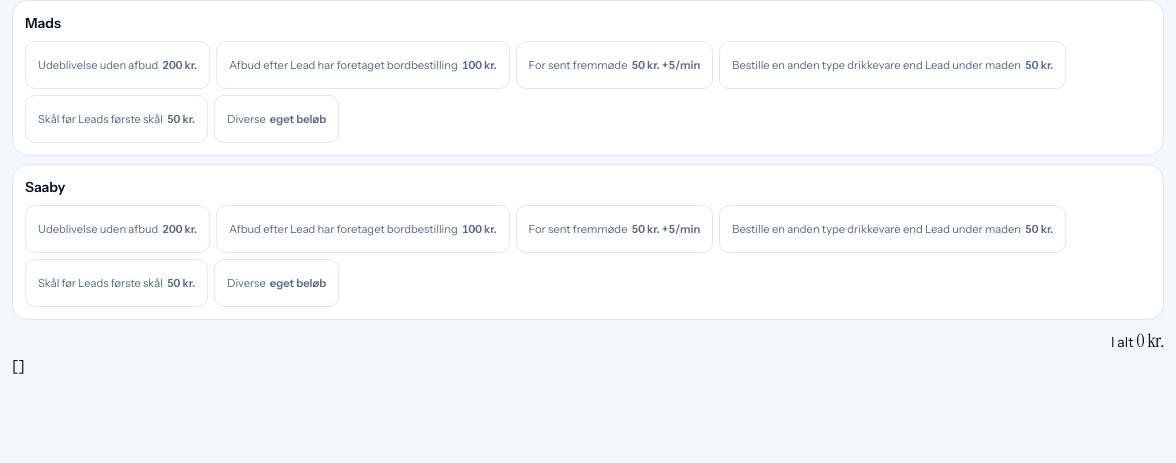
Test: a negative number is refused rather than charged as none
Click the 1st button "For sent fremmøde 50 kr. +5/min".
click(614, 65)  # box [516, 41, 713, 89]
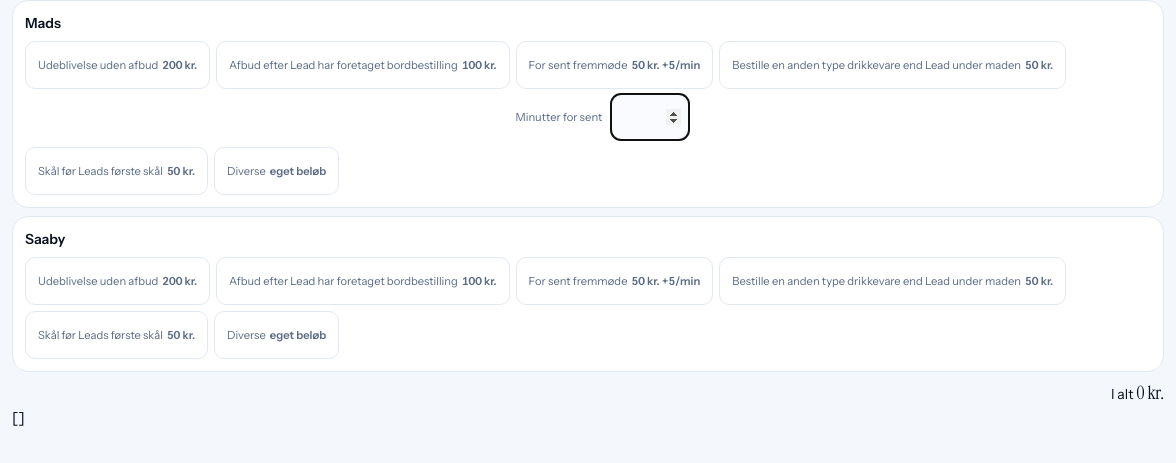
Type "-50" into the number field named "Minutter for sent — Mads".
click(650, 117); type("-50")  # box [610, 93, 690, 141]
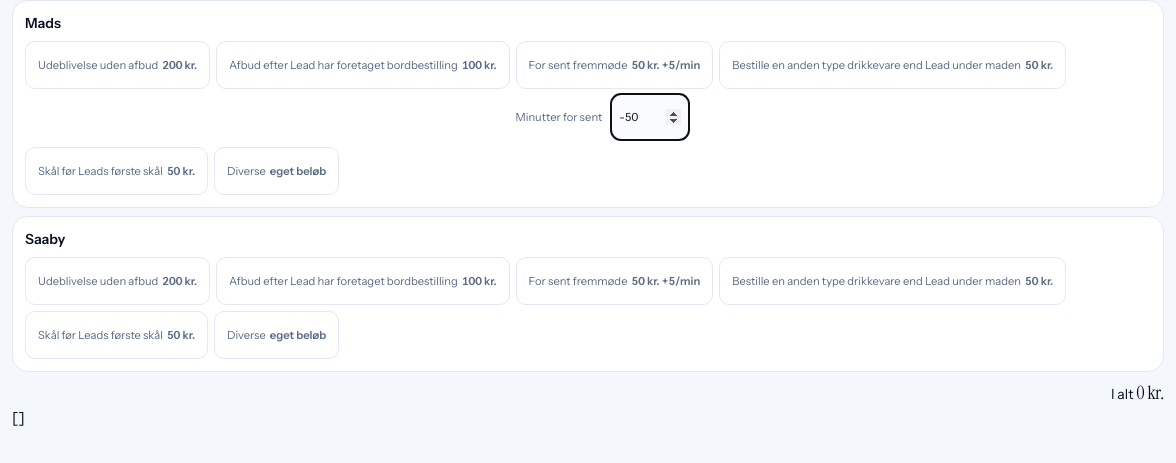
Click the heading "Saaby".
click(45, 239)  # box [25, 230, 65, 248]
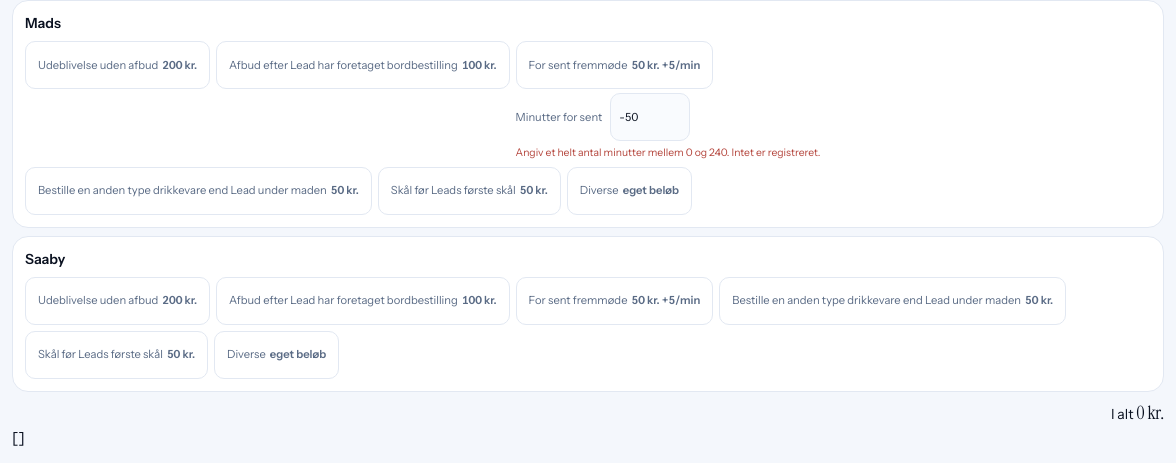
Now the message "Angiv et helt antal minutter mellem 0 og 240. Intet er registreret." is shown, box [516, 145, 820, 161]
